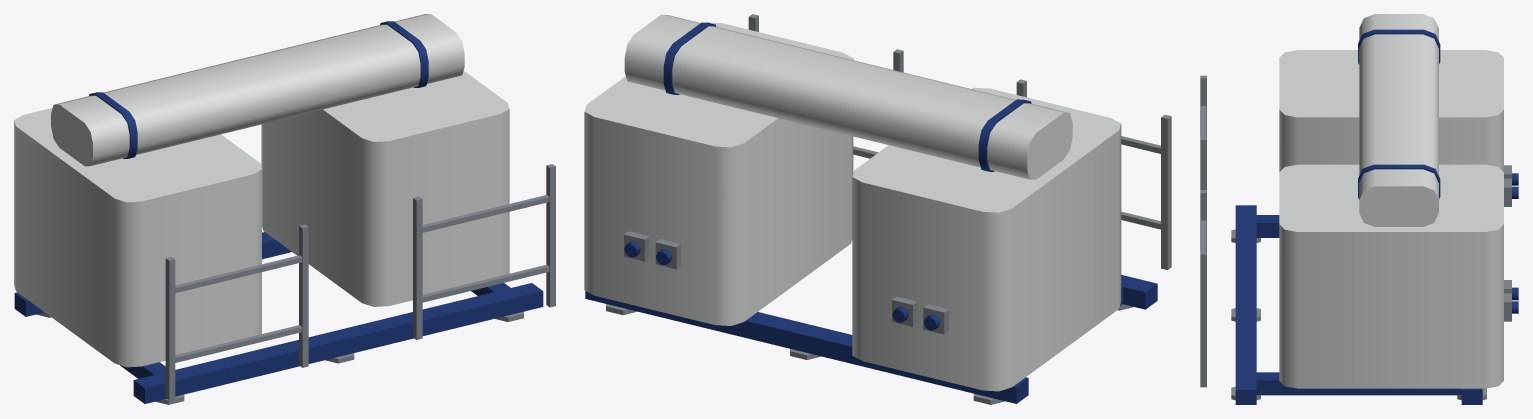
File: l20_frame.obj
3 renders of one model, left to right at view 1: azimuth 30°, elevation 25°; view 2: azimuth 150°, elevation 25°; view 3: azimuth 270°, elevation 25°, orthographic. The views are drawn at different scales.
Parts seen in each view (by area): view 1: l20_frame; view 2: l20_frame; view 3: l20_frame.
Part boxes in pixels (bbox=[...]): l20_frame: bbox=[14, 14, 555, 404]; l20_frame: bbox=[584, 14, 1171, 404]; l20_frame: bbox=[1200, 14, 1518, 404].
Bounding box in the file's own units: 3.29 × 1.81 × 2.4.
